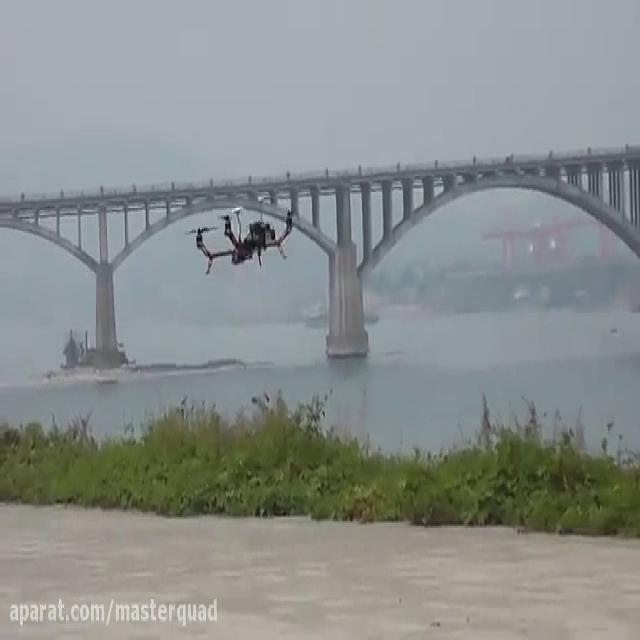drone: (182, 194, 297, 279)
